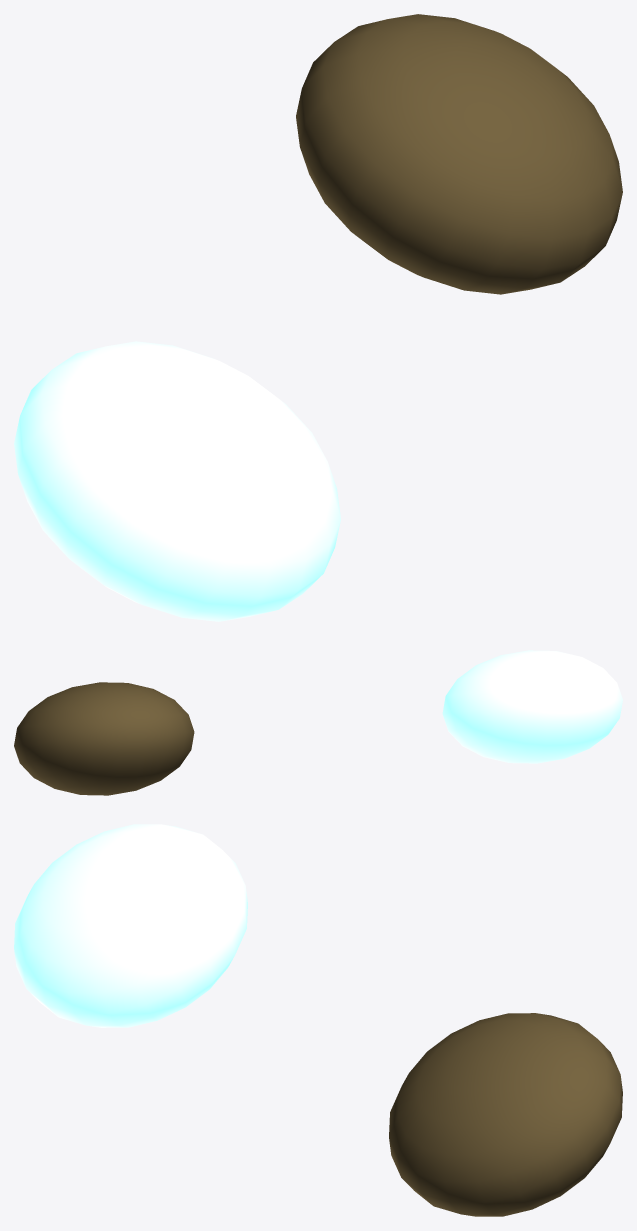
Rendered from lamps.glb.
The picture shows the model from 3 angles, top to bottom: view 1: azimuth 30°, elevation 25°; view 2: azimuth 150°, elevation 25°; view 3: azimuth 270°, elevation 25°; orthographic projection. The views are drawn at different scales.
Parts seen in each view (by area): view 1: fmm_lamp_dome_0, fmm_lamp_dome_1; view 2: fmm_lamp_dome_0, fmm_lamp_dome_1; view 3: fmm_lamp_dome_0, fmm_lamp_dome_1.
Part boxes in pixels (x1,y1,x2,y2): fmm_lamp_dome_0: (14, 341, 340, 621); fmm_lamp_dome_1: (296, 14, 622, 294); fmm_lamp_dome_0: (442, 650, 622, 763); fmm_lamp_dome_1: (14, 682, 194, 795); fmm_lamp_dome_0: (14, 824, 247, 1027); fmm_lamp_dome_1: (389, 1013, 622, 1216).
Bounding box in the file's own units: 0.0891 × 0.0227 × 0.0793.
